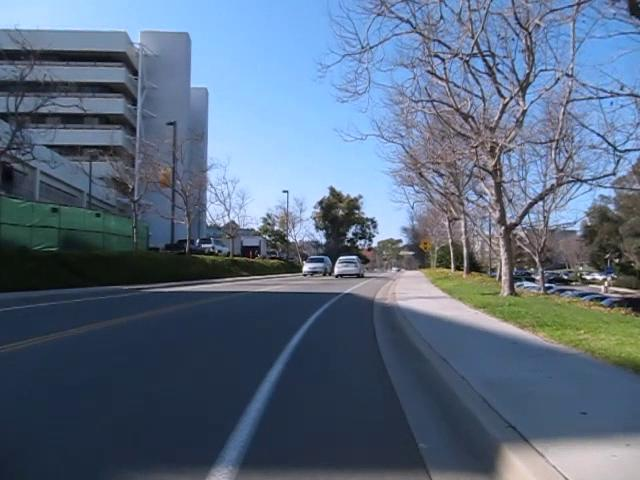signalAhead: (417, 237, 433, 252)
